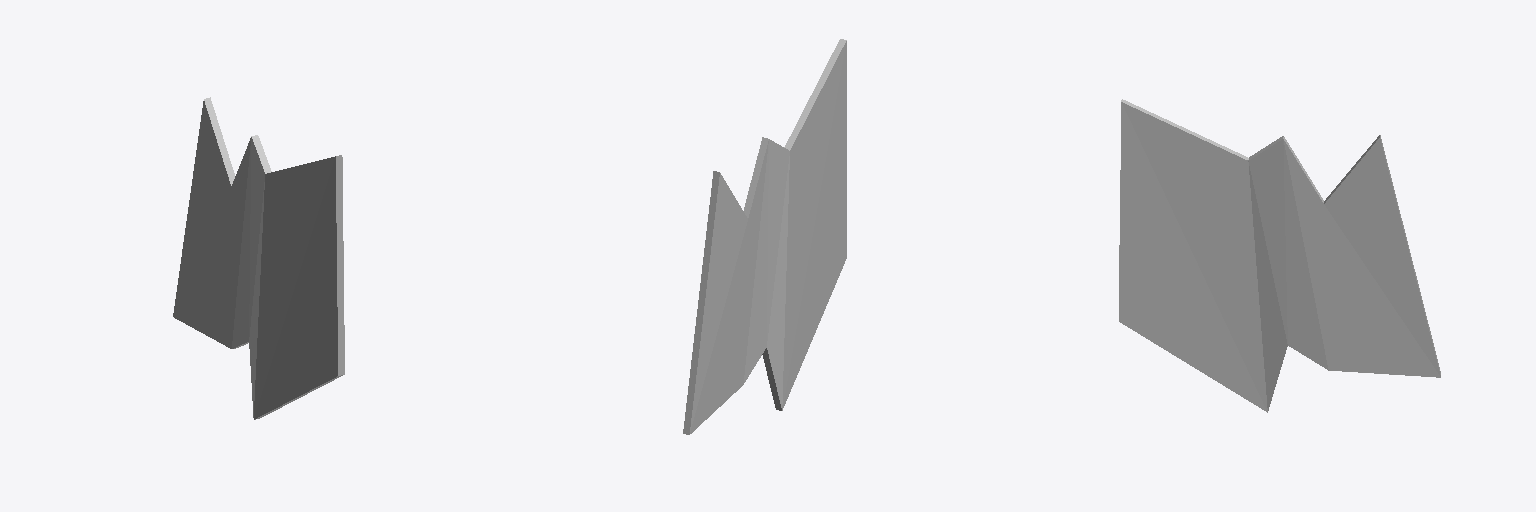
The model's file is piece.obj.
The picture shows the model from 3 angles: view 1: azimuth 30°, elevation 25°; view 2: azimuth 150°, elevation 25°; view 3: azimuth 270°, elevation 25°; orthographic projection.
Parts seen in each view (by area): view 1: Cube; view 2: Cube; view 3: Cube.
Boxes of the visible parts, x1,y1,x2,y2 form: Cube: [173, 97, 344, 419]; Cube: [683, 39, 846, 434]; Cube: [1119, 99, 1440, 412].
Bounding box in the file's own units: 0.1688 × 3.05 × 2.83.